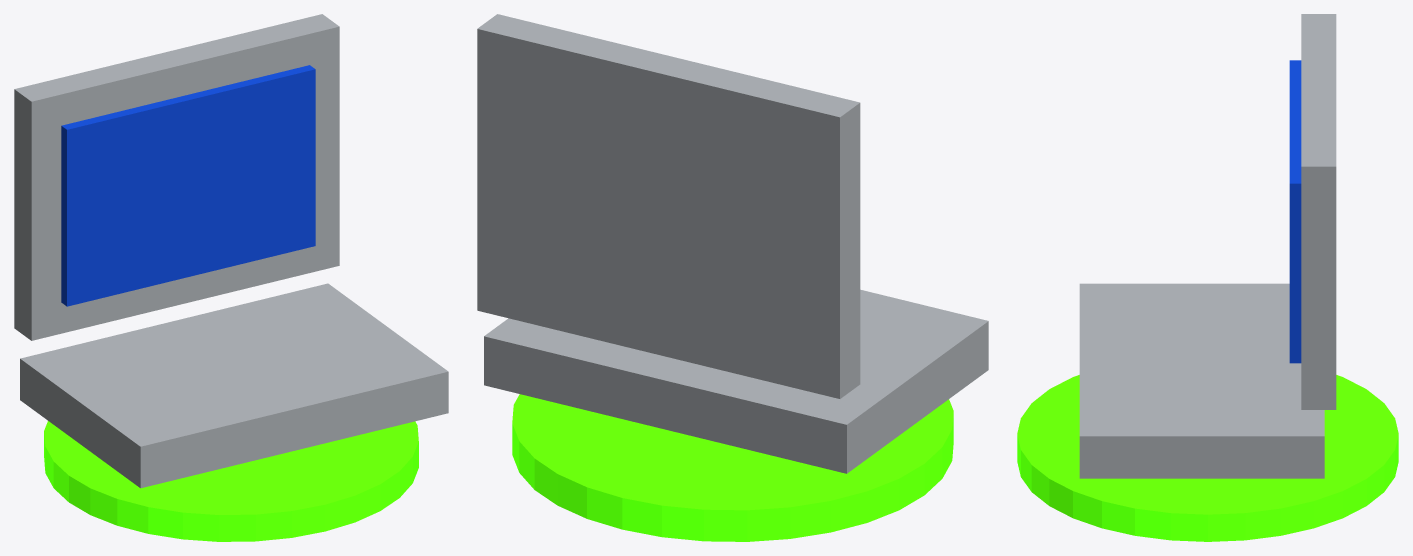
File: tech_laptop.dae
The picture shows the model from 3 angles, left to right: view 1: azimuth 30°, elevation 25°; view 2: azimuth 150°, elevation 25°; view 3: azimuth 270°, elevation 25°; orthographic projection. The views are drawn at different scales.
Visible parts, largest first — view 1: 08_02_Popular_Tech_Laptop_part_01, 08_02_Popular_Tech_Laptop_part_03, 08_02_Popular_Tech_Laptop_part_02, 08_02_Popular_Tech_Laptop_ROOT_base; view 2: 08_02_Popular_Tech_Laptop_part_02, 08_02_Popular_Tech_Laptop_part_01, 08_02_Popular_Tech_Laptop_ROOT_base; view 3: 08_02_Popular_Tech_Laptop_part_01, 08_02_Popular_Tech_Laptop_ROOT_base, 08_02_Popular_Tech_Laptop_part_02, 08_02_Popular_Tech_Laptop_part_03.
Boxes of the visible parts, x1,y1,x2,y2 form: 08_02_Popular_Tech_Laptop_part_01: (20, 283, 448, 488); 08_02_Popular_Tech_Laptop_part_03: (61, 65, 315, 306); 08_02_Popular_Tech_Laptop_part_02: (14, 14, 339, 340); 08_02_Popular_Tech_Laptop_ROOT_base: (44, 421, 418, 541); 08_02_Popular_Tech_Laptop_part_02: (477, 14, 860, 398); 08_02_Popular_Tech_Laptop_part_01: (484, 289, 988, 473); 08_02_Popular_Tech_Laptop_ROOT_base: (512, 394, 953, 541); 08_02_Popular_Tech_Laptop_part_01: (1079, 283, 1324, 478); 08_02_Popular_Tech_Laptop_ROOT_base: (1017, 375, 1398, 541); 08_02_Popular_Tech_Laptop_part_02: (1301, 14, 1336, 409); 08_02_Popular_Tech_Laptop_part_03: (1289, 60, 1301, 363).
Bounding box in the file's own units: 0.76 × 0.8152 × 0.76.
